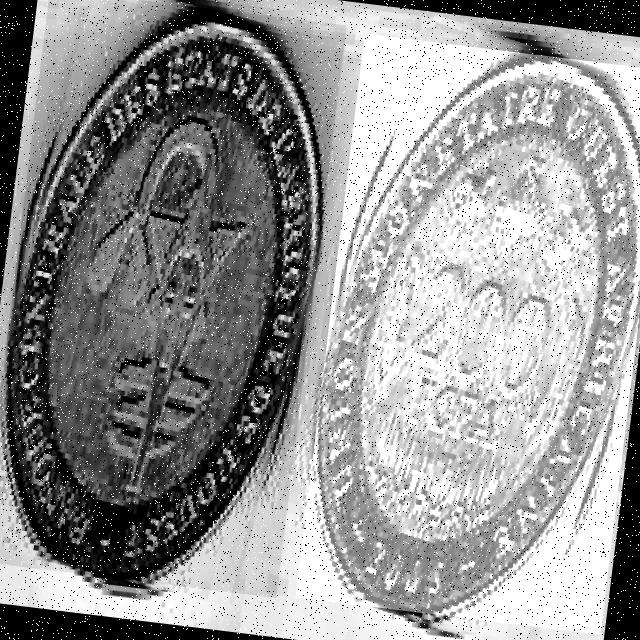nient fukk: (317, 59, 640, 612), (7, 9, 320, 579)
